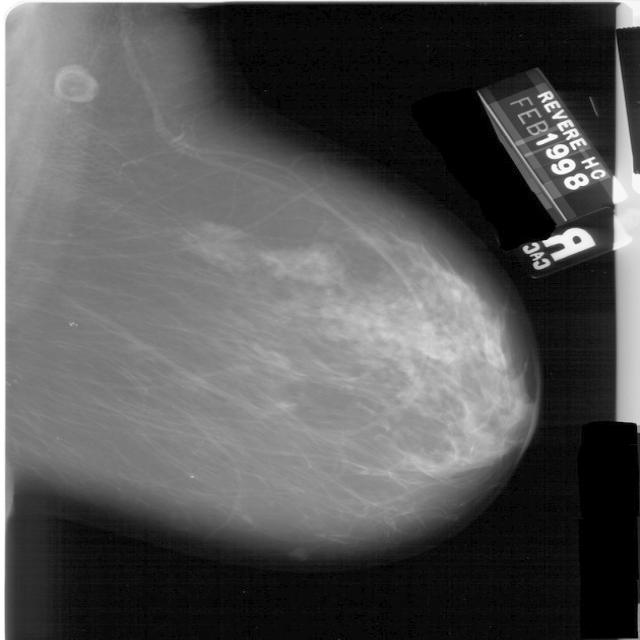tumour: (286, 543, 311, 562)
